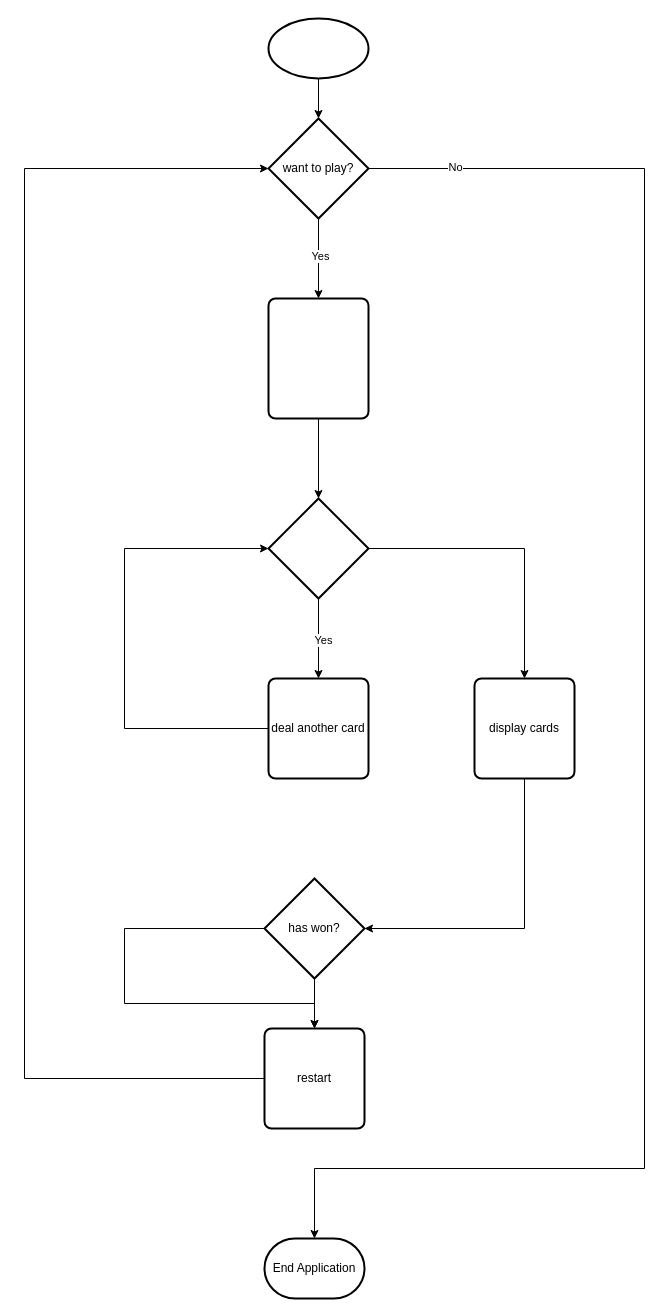
This 670x1316 diagram has some shape labels left out. Each missing label, with the centre of its shape:
"Deal Cards Dealer: 1 open 1 closed Player: both open" belongs at pixel 318 358.
"Start Application" belongs at pixel 318 48.
"Want another card?" belongs at pixel 318 548.
